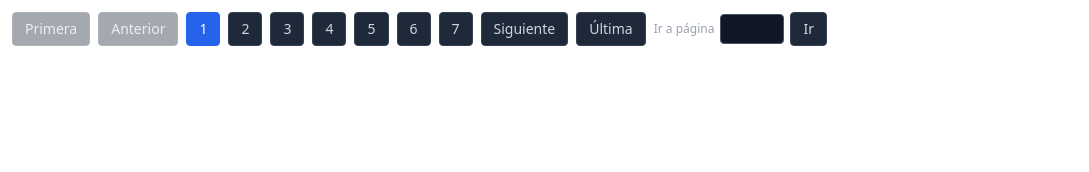
Test: Pagination — US-26 navegación numerada › el input "ir a página" rechaza un número fuera de rango sin navegar
In the number field labelled "Ir a página": point(752, 29) [720,14,784,44], type "999"
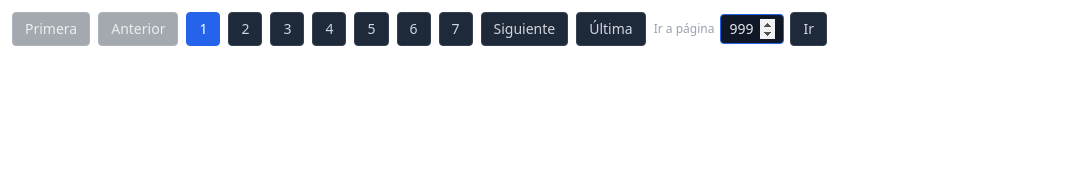
Click the button "Ir": point(809, 29) [790,12,827,46]
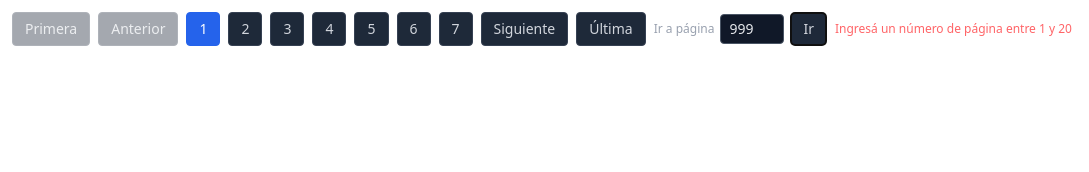
Expected: the message shows "entre 1 y 20", [835,20,1072,37]
